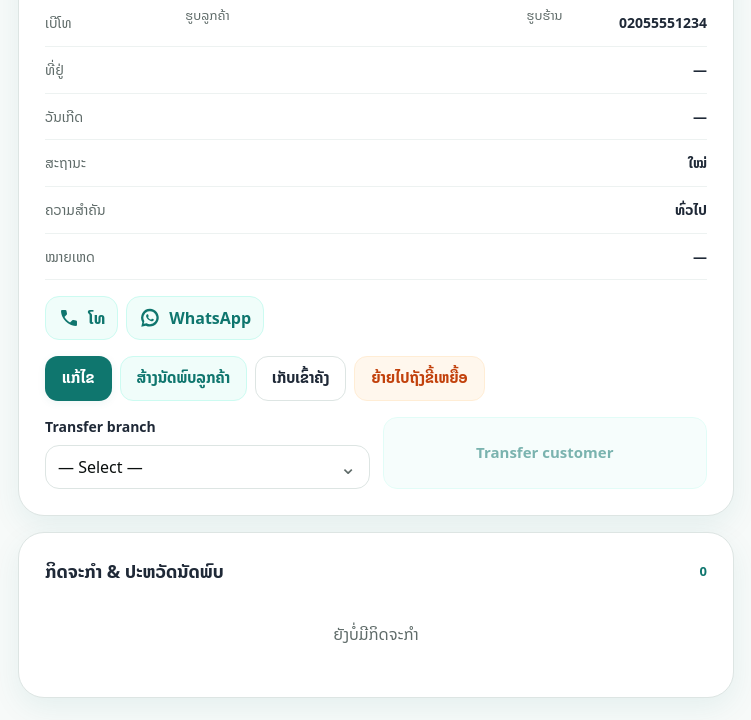
Test case: CustomerDetailPage transfer › transfers to the selected branch and resets the transfer selector
(page scrolled)
Expected: the text "ຮູບລູກຄ້າ" is shown, [185,5,230,26]
Click the dropdown named "Transfer branch".
click(100, 467)  # box [45,445,370,489]
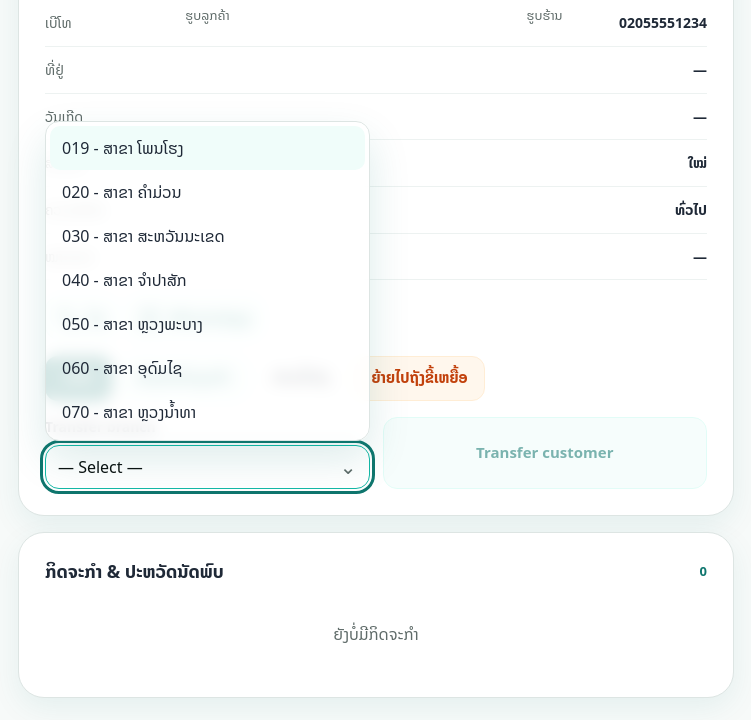
Click the option "019 - ສາຂາ ໂພນໂຮງ".
click(123, 148)  # box [50,126,364,170]
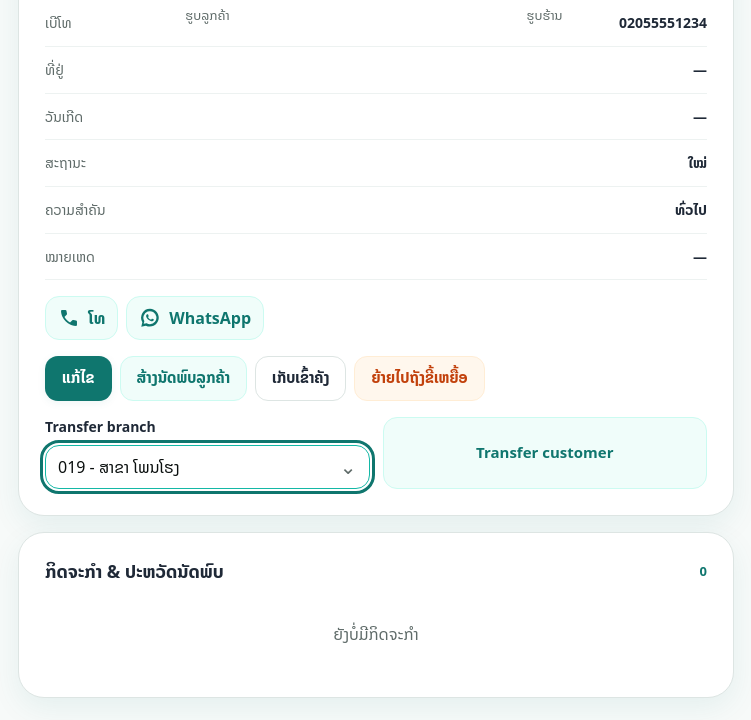
Click the button "Transfer customer".
click(545, 453)  # box [382,416,707,489]
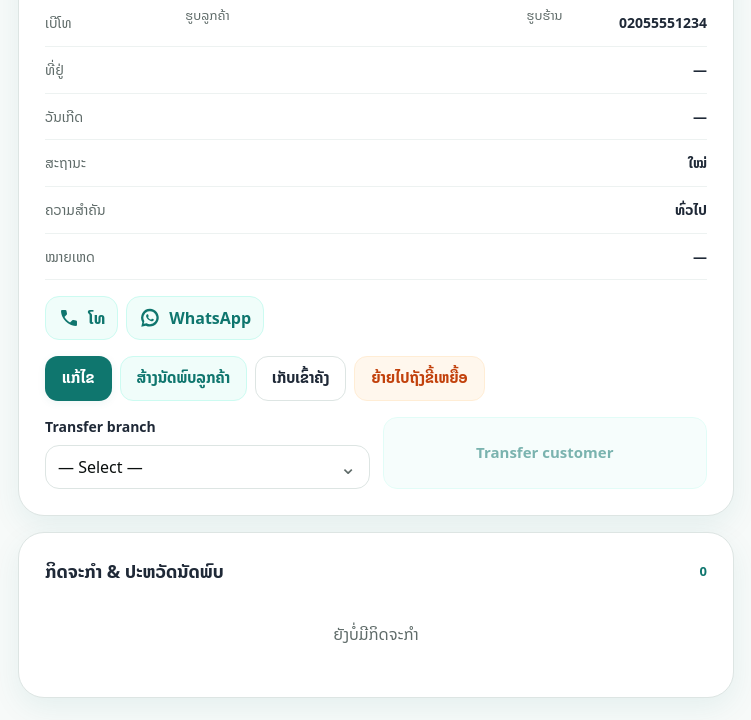
Result: the dropdown named "Transfer branch" shows "— Select —" at [45,445,370,489]
